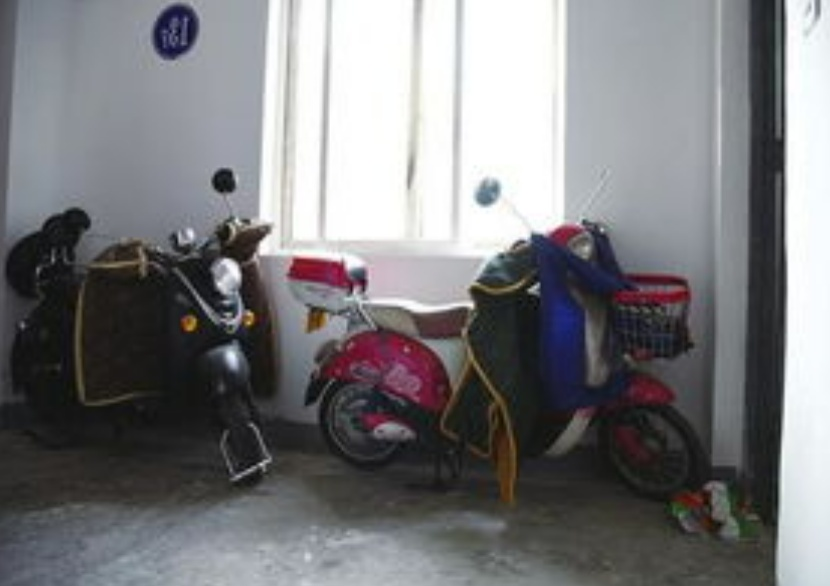ebike: (288, 174, 704, 469), (5, 163, 276, 454)
